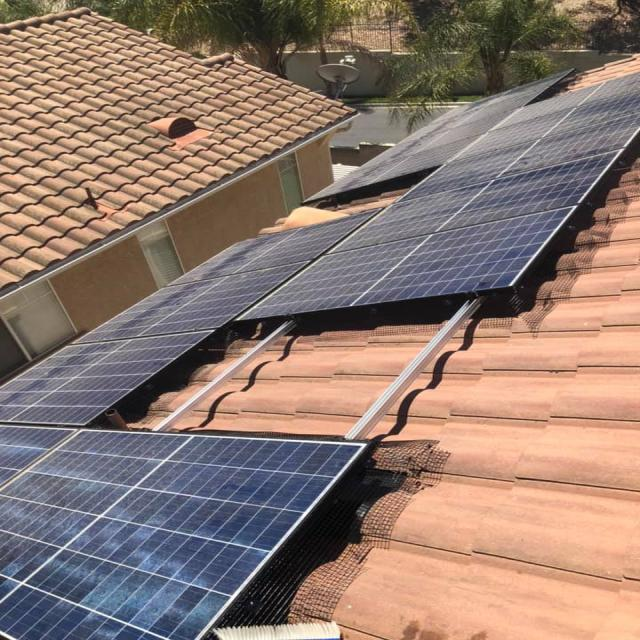dust-solar-panel: (3, 75, 640, 640)
